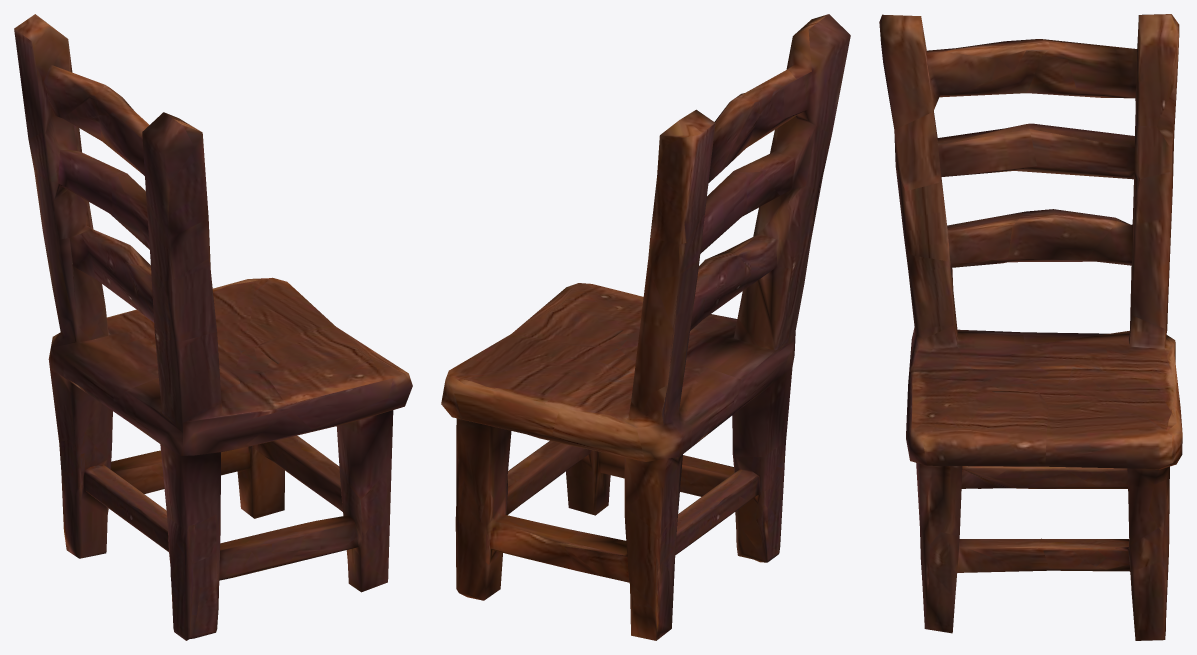
File: 木制酒馆椅子.glb
3 renders of one model, left to right at view 1: azimuth 30°, elevation 25°; view 2: azimuth 150°, elevation 25°; view 3: azimuth 270°, elevation 25°, orthographic. The views are drawn at different scales.
Visible parts, largest first — view 1: tripo_node_c151c5fd-3734-4ca2-a890-ee32d4f68a98; view 2: tripo_node_c151c5fd-3734-4ca2-a890-ee32d4f68a98; view 3: tripo_node_c151c5fd-3734-4ca2-a890-ee32d4f68a98.
Boxes of the visible parts, x1,y1,x2,y2 form: tripo_node_c151c5fd-3734-4ca2-a890-ee32d4f68a98: (14, 14, 412, 640); tripo_node_c151c5fd-3734-4ca2-a890-ee32d4f68a98: (441, 14, 850, 640); tripo_node_c151c5fd-3734-4ca2-a890-ee32d4f68a98: (879, 14, 1182, 640).
Size of the model in its own units: 0.5195 by 0.9981 by 0.5251.
1 material, 1 textured.
